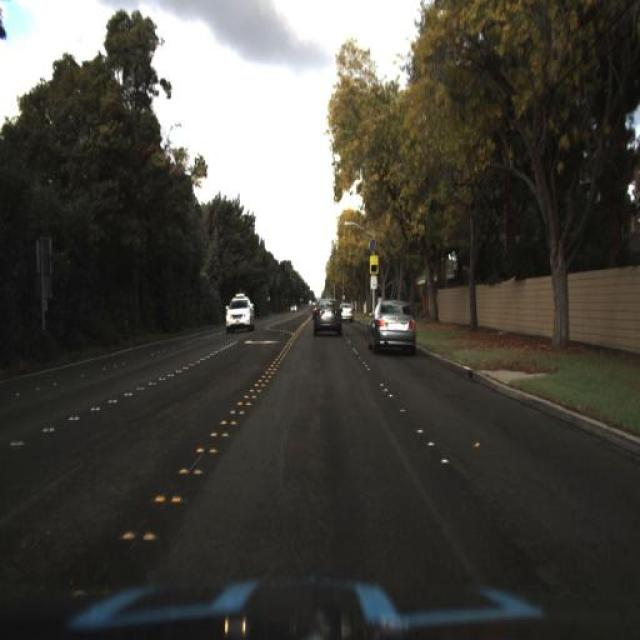car: (357, 293, 431, 365), (306, 293, 348, 343), (221, 290, 257, 339), (338, 300, 353, 326)
